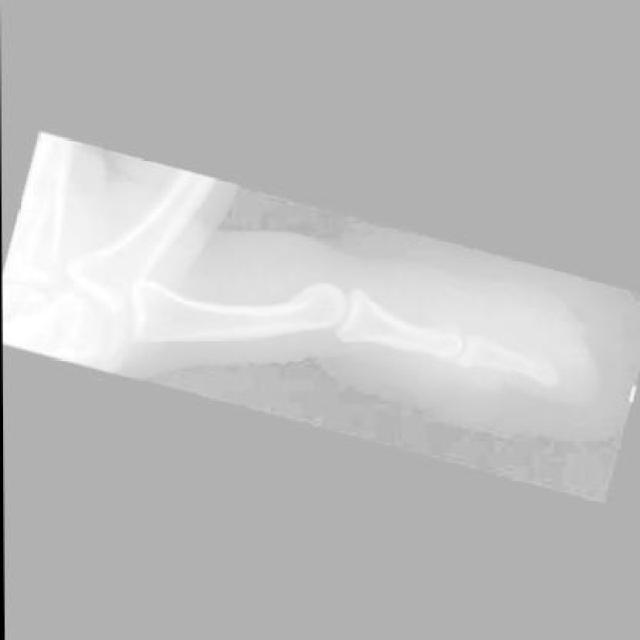Fracture: (505, 346, 555, 388)
